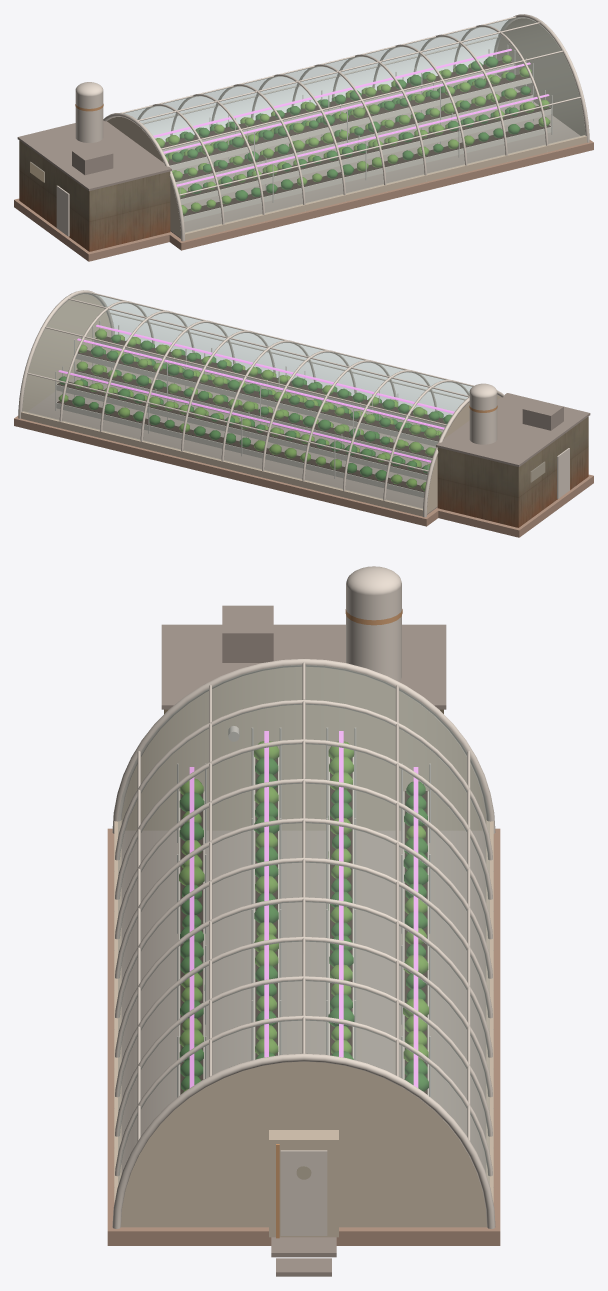
Rendered from A02_arched_greenhouse_20m.glb.
The picture shows the model from 3 angles, top to bottom: view 1: azimuth 30°, elevation 25°; view 2: azimuth 150°, elevation 25°; view 3: azimuth 270°, elevation 25°; orthographic projection. The views are drawn at different scales.
Parts seen in each view (by area): view 1: glazing, rib, floor, service_annex, end_wall, foundation, grow_light, rack_post; view 2: glazing, rib, floor, service_annex, foundation, end_wall, grow_light, rack_post; view 3: glazing, rib, end_wall, floor, foundation, grow_light, rack_post.
Part boxes in pixels (x1,y1,x2,y2): glazing: [124, 17, 585, 232]; rib: [56, 14, 589, 241]; floor: [17, 73, 580, 238]; service_annex: [19, 140, 170, 251]; end_wall: [107, 18, 585, 237]; foundation: [14, 140, 593, 261]; grow_light: [153, 48, 549, 186]; rack_post: [179, 45, 552, 202]; glazing: [22, 293, 472, 508]; rib: [18, 290, 569, 517]; floor: [27, 349, 590, 514]; service_annex: [437, 416, 588, 527]; foundation: [14, 416, 593, 537]; end_wall: [22, 294, 500, 513]; grow_light: [58, 324, 454, 462]; rack_post: [55, 321, 428, 478]; glazing: [118, 665, 489, 1184]; rib: [112, 566, 495, 1238]; end_wall: [121, 666, 486, 1227]; floor: [121, 605, 486, 1276]; foundation: [107, 828, 500, 1245]; grow_light: [189, 731, 418, 1087]; rack_post: [177, 726, 430, 1097].
Bounding box in the file's own units: 26.05 × 5.85 × 8.4.
9 materials, 1 textured.
